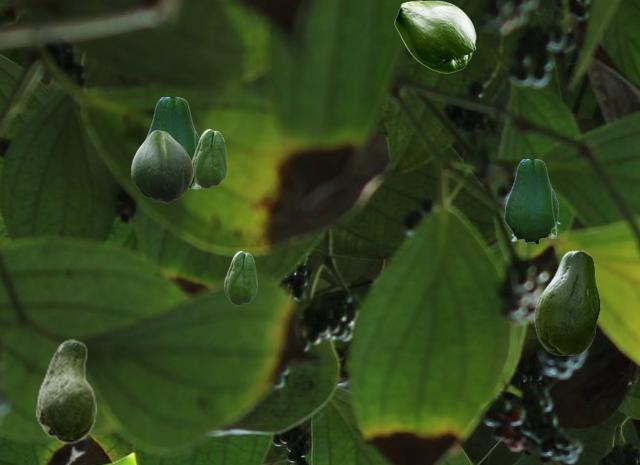sayote: (534, 250, 599, 354), (36, 339, 95, 443), (394, 0, 475, 72), (145, 97, 201, 189), (504, 159, 559, 245), (131, 130, 192, 202), (192, 129, 226, 187), (224, 251, 256, 304)
